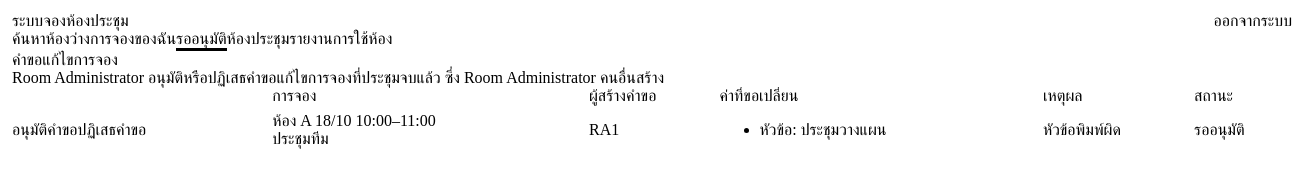
FE-mrr-011 adjustment requests page (UI-mrr-011) › AC-mrr-043 อนุมัติคำขอ posts to API-018, says อนุมัติคำขอแก้ไขสำเร็จ and the request leaves the queue
Click the button with test id "ui-mrr-011-approve" at (45, 130), box 12,121 -> 78,139
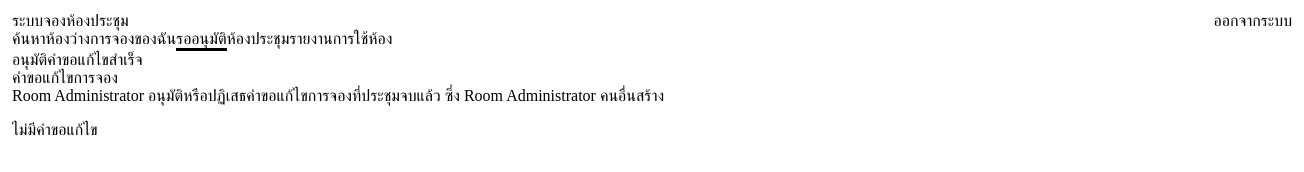
Expected: the heading "คำขอแก้ไขการจอง" is shown, 12,69 -> 118,86
Expected: the message reads "อนุมัติคำขอแก้ไขสำเร็จ", 12,51 -> 143,68
Expected: the text "ไม่มีคำขอแก้ไข" is shown, 12,121 -> 98,138
